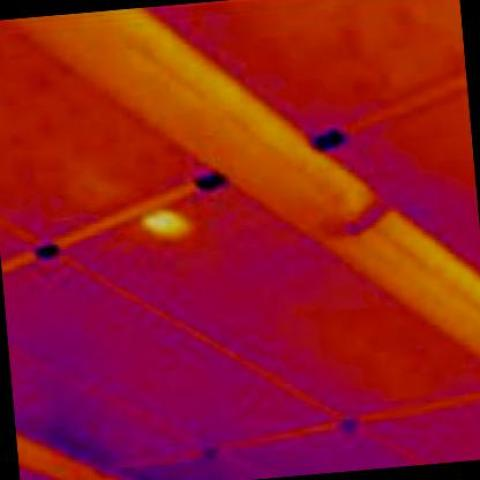fault: (144, 210, 190, 238)
